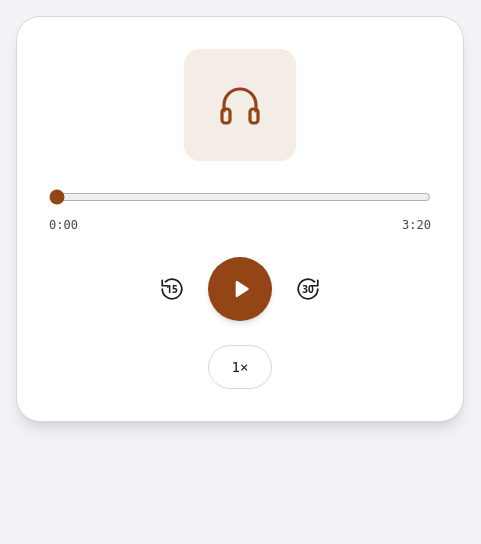
Test: the audio player: play and pause › says so, in words, when the browser does not let it play
Click the button named "Tocar": {"x": 240, "y": 289} x1=208 y1=257 x2=272 y2=321
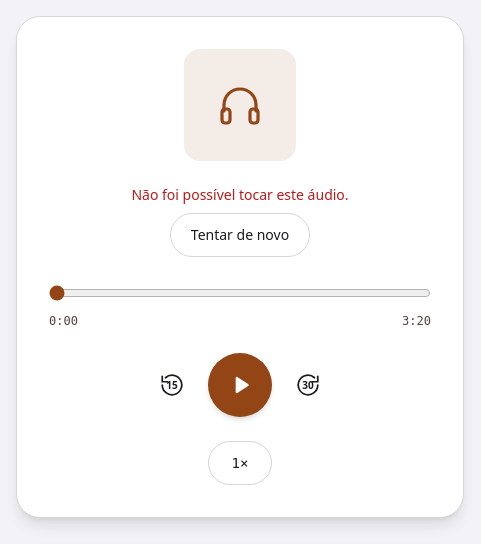
expect the message "Não foi possível tocar este áudio. Tentar de novo" is shown: met, box x1=131 y1=185 x2=349 y2=257
